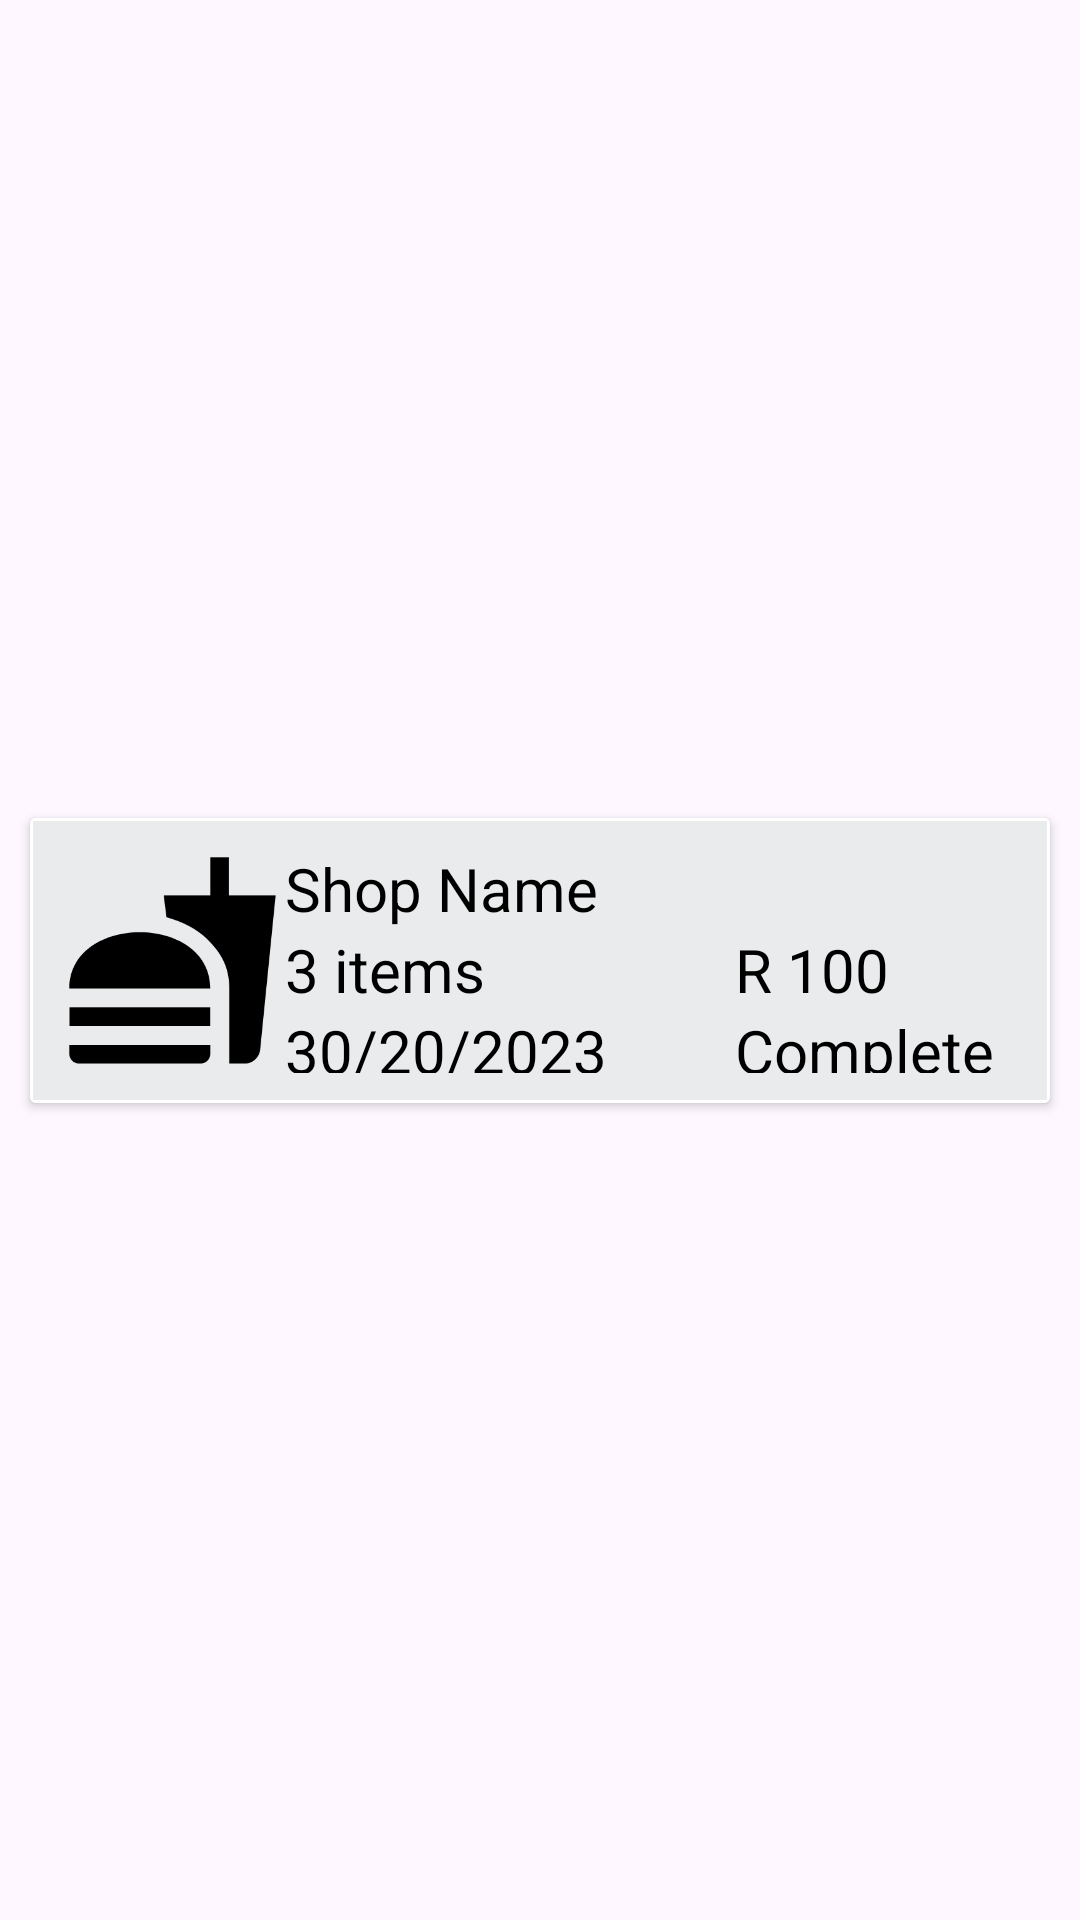

Where icons sit on this 1080px x 1920px app screen, as bbox=[x1, y1, x2, y2]:
fastfood: bbox=[69, 857, 276, 1064]
